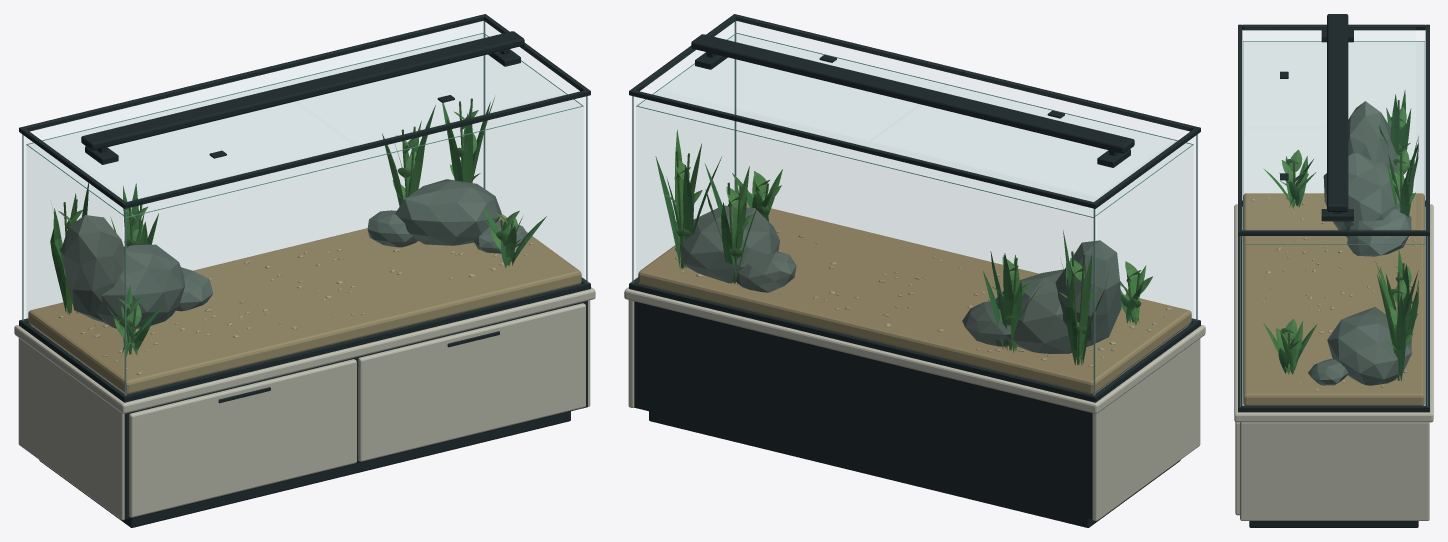
The picture shows the model from 3 angles, left to right: view 1: azimuth 30°, elevation 25°; view 2: azimuth 150°, elevation 25°; view 3: azimuth 270°, elevation 25°; orthographic projection. The views are drawn at different scales.
Visible parts, largest first — view 1: EXPORT_DETAILS_Opaque; view 2: EXPORT_DETAILS_Opaque; view 3: EXPORT_DETAILS_Opaque.
Part boxes in pixels (bbox=[...]): EXPORT_DETAILS_Opaque: bbox=[14, 14, 595, 527]; EXPORT_DETAILS_Opaque: bbox=[624, 14, 1205, 527]; EXPORT_DETAILS_Opaque: bbox=[1234, 14, 1433, 527].
Size of the model in its own units: 2 by 1.42 by 0.8.
